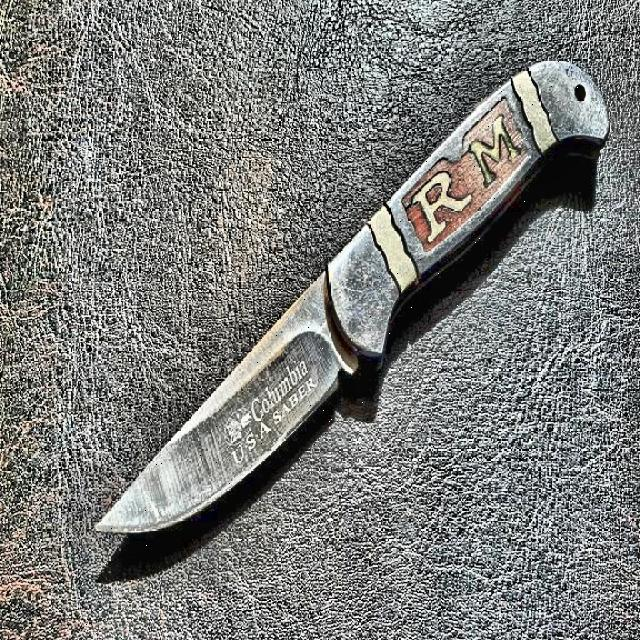knife: (89, 55, 611, 551)
